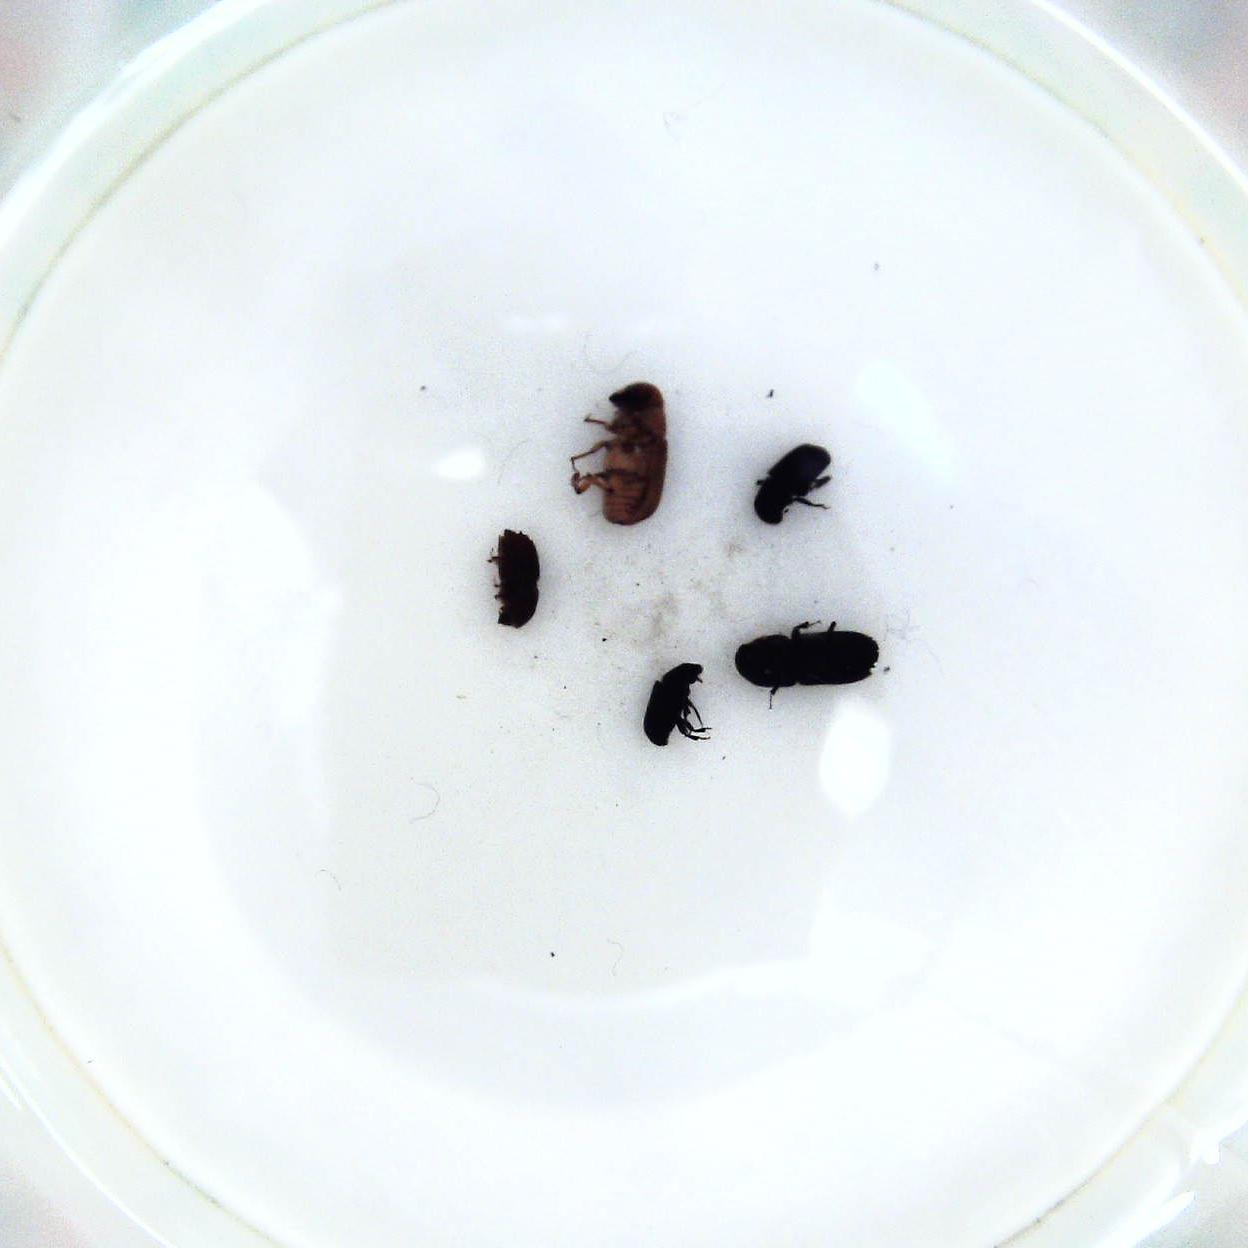Boerner: (733, 619, 885, 702)
Leconte: (569, 378, 677, 529)
armandi: (750, 443, 842, 534)
coleoptera: (640, 661, 720, 757)
linnaeus: (486, 526, 550, 634)
